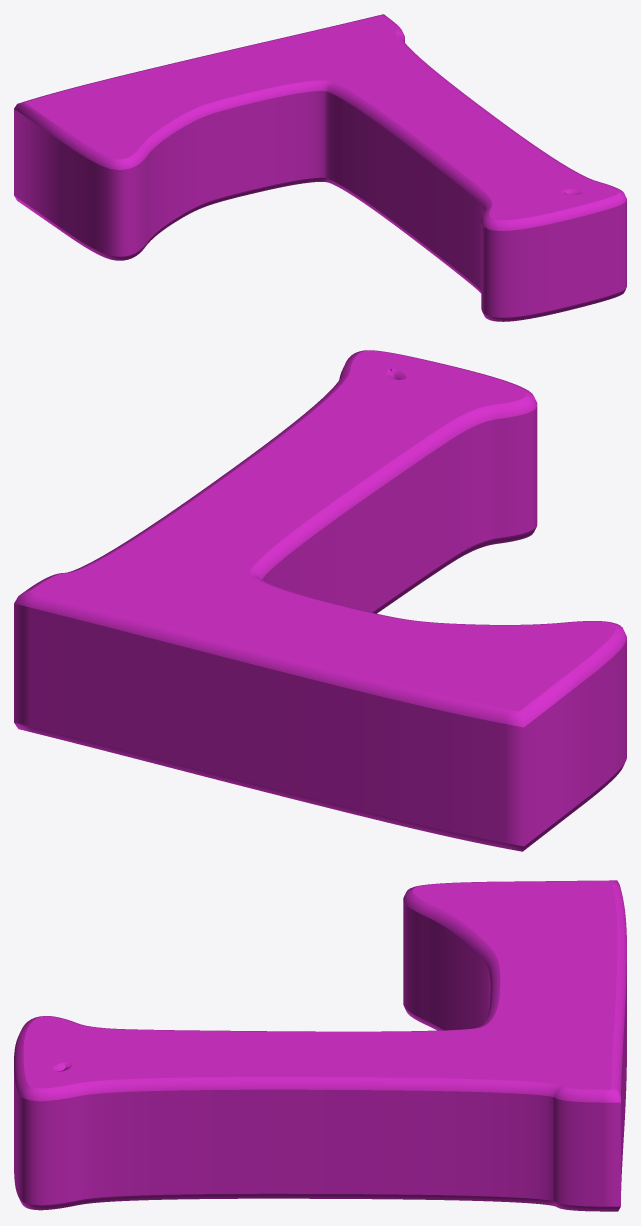
The model's file is Bubble_LetterL.fbx.
3 views of the same model, one above another, from view 1: azimuth 30°, elevation 25°; view 2: azimuth 150°, elevation 25°; view 3: azimuth 270°, elevation 25° (orthographic). The views are drawn at different scales.
Parts seen in each view (by area): view 1: BubbleLetter_L; view 2: BubbleLetter_L; view 3: BubbleLetter_L.
Boxes of the visible parts, <box> form: BubbleLetter_L: <box>14,14,626,321</box>; BubbleLetter_L: <box>14,350,626,851</box>; BubbleLetter_L: <box>14,880,626,1211</box>.
Bounding box in the file's own units: 0.5374 × 0.14 × 0.6407.
